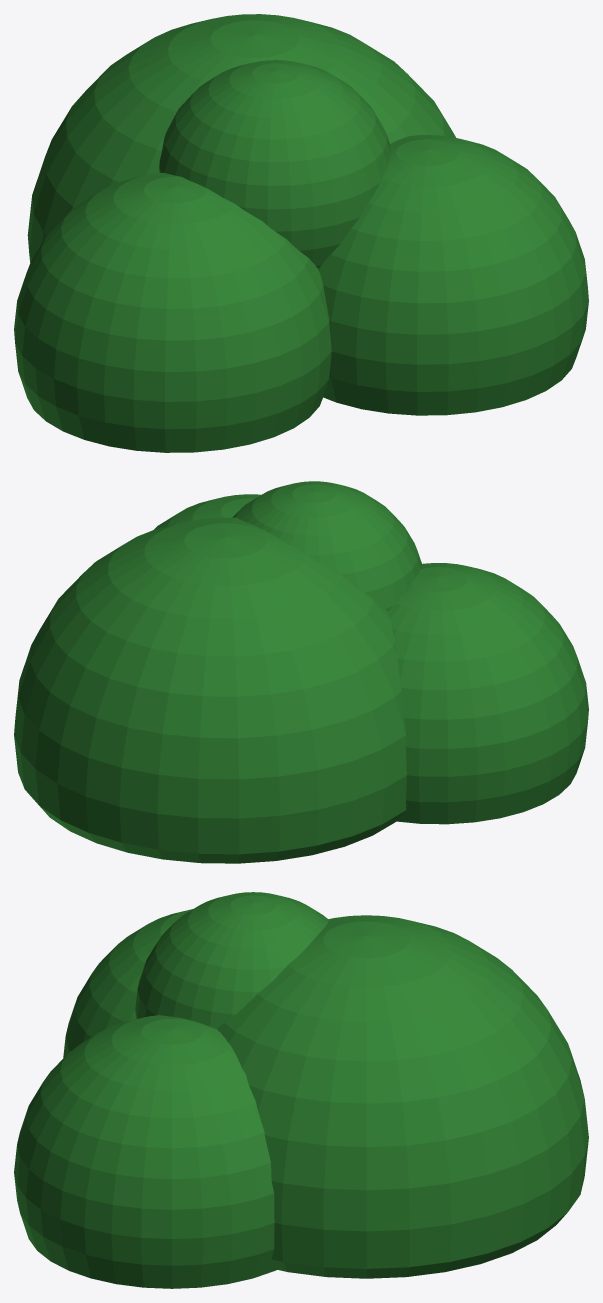
The model's file is Bush.fbx.
3 renders of one model, top to bottom at view 1: azimuth 30°, elevation 25°; view 2: azimuth 150°, elevation 25°; view 3: azimuth 270°, elevation 25°, orthographic. The views are drawn at different scales.
Visible parts, largest first — view 1: Sphere.002; view 2: Sphere.002; view 3: Sphere.002.
Boxes of the visible parts, x1,y1,x2,y2 form: Sphere.002: [14, 14, 588, 452]; Sphere.002: [14, 481, 588, 863]; Sphere.002: [14, 892, 588, 1288].
Bounding box in the file's own units: 724 × 379 × 728.
